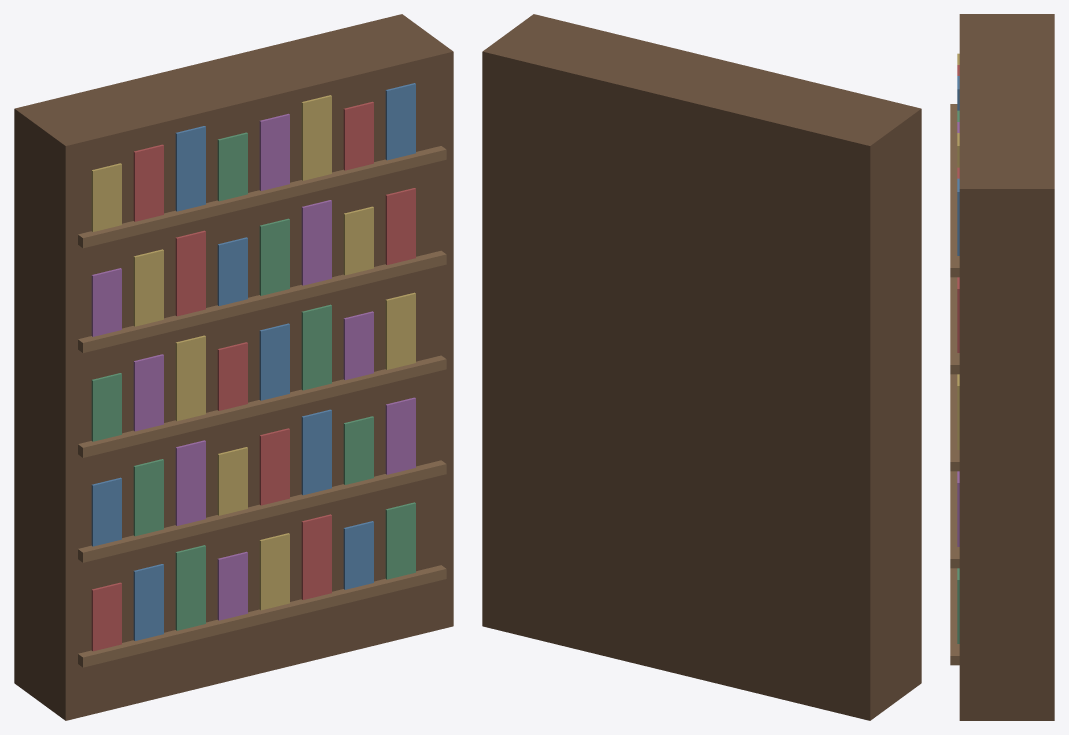
The model's file is prop_library_bookshelf.glb.
3 renders of one model, left to right at view 1: azimuth 30°, elevation 25°; view 2: azimuth 150°, elevation 25°; view 3: azimuth 270°, elevation 25°, orthographic. The views are drawn at different scales.
Parts seen in each view (by area): view 1: prop_library_bookshelf; view 2: prop_library_bookshelf; view 3: prop_library_bookshelf.
Boxes of the visible parts, bbox=[...] form: prop_library_bookshelf: bbox=[14, 14, 453, 720]; prop_library_bookshelf: bbox=[482, 14, 921, 720]; prop_library_bookshelf: bbox=[950, 14, 1054, 720].
Bounding box in the file's own units: 2.4 × 3.4 × 0.605.
